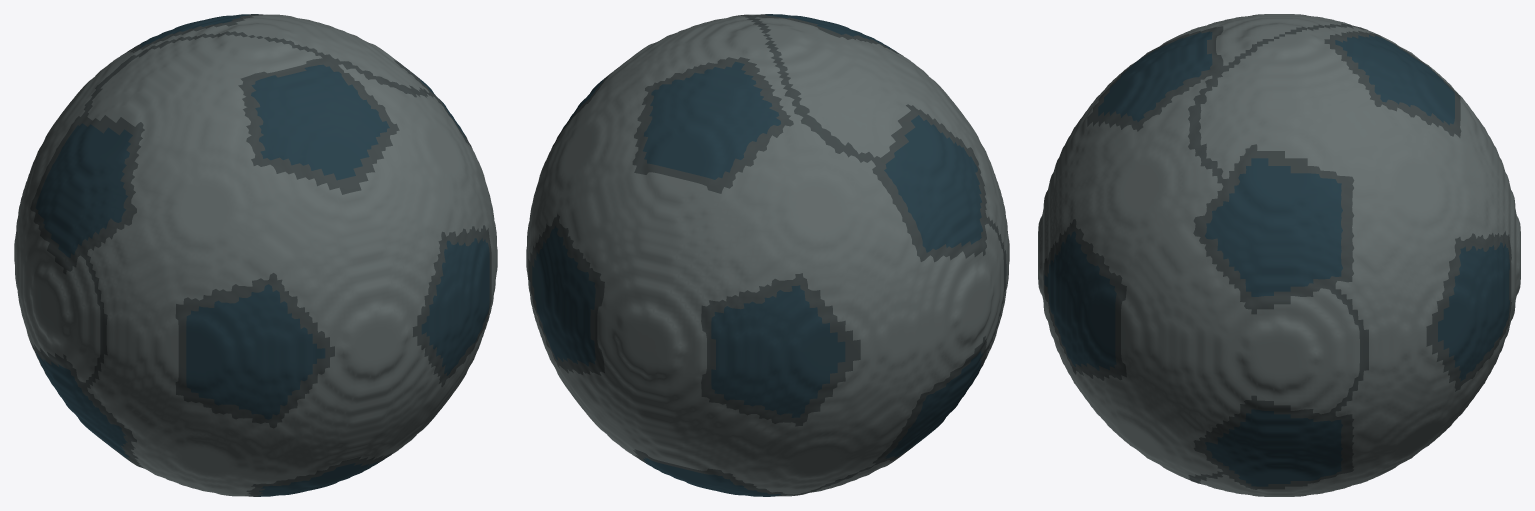
Rendered from football-ball.glb.
The picture shows the model from 3 angles, left to right: view 1: azimuth 30°, elevation 25°; view 2: azimuth 150°, elevation 25°; view 3: azimuth 270°, elevation 25°; orthographic projection.
Parts seen in each view (by area): view 1: __playground; view 2: __playground; view 3: __playground.
Part boxes in pixels (left/top/right/bottom): __playground: left=14, top=14, right=497, bottom=496; __playground: left=526, top=14, right=1009, bottom=496; __playground: left=1038, top=14, right=1520, bottom=496.
Bounding box in the file's own units: 2.15 × 2.15 × 2.15.
